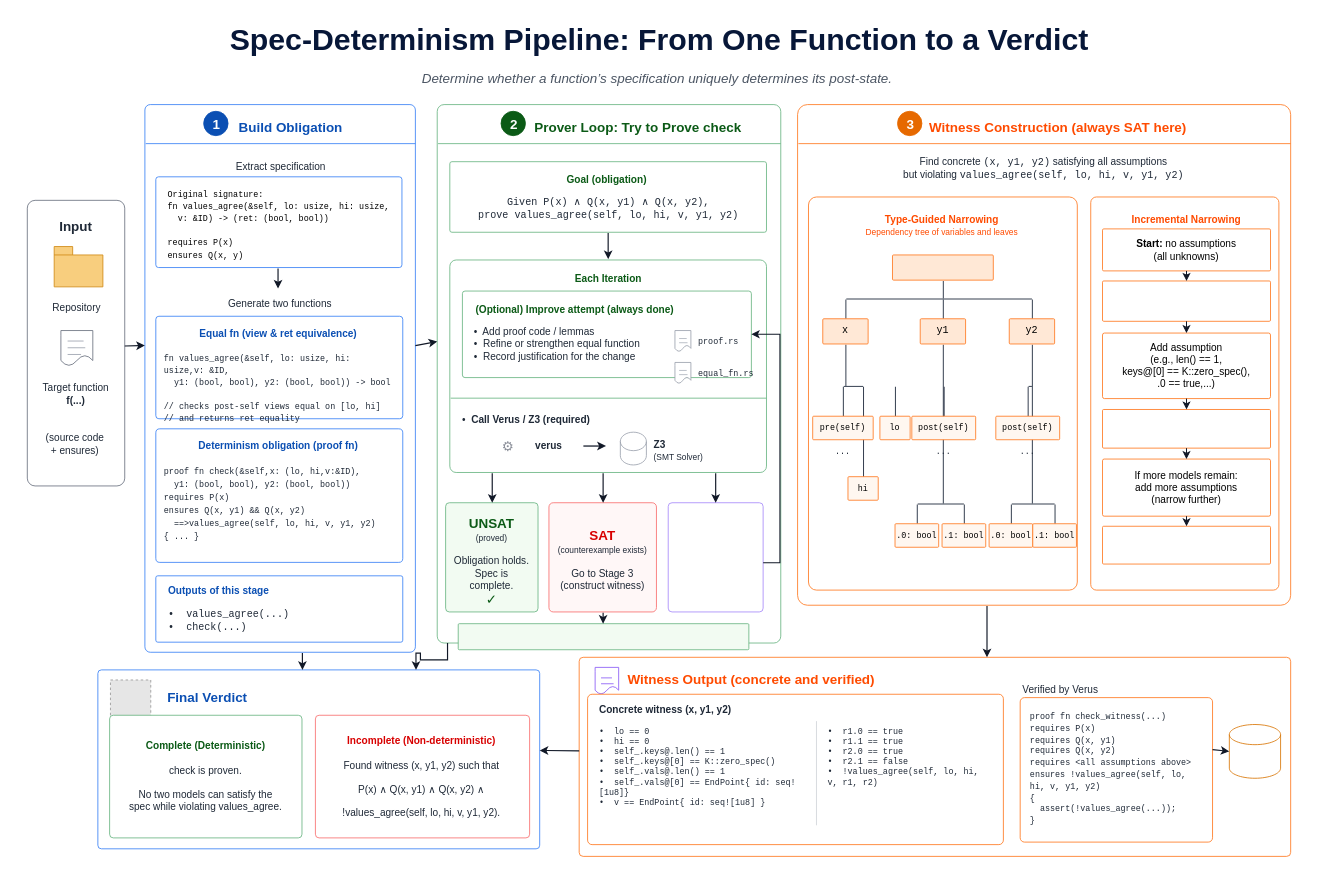
Some shapes in this 1319 by 889 pixel diagram are drawn without their labels. Grey dashed boxes stand in for pictures. The centre of each missing label's shape, as x and y in pixels:
"(x, y1, y2)" goes at (x=942, y=267).
"If still SAT and unequal: we have a concrete witness" goes at (x=1186, y=544).
"Iterate until: UNSAT (complete) or SAT (counterexample)" goes at (x=603, y=636).
"Query Verus / Z3 under all current assumptions" goes at (x=1186, y=428).
"Select next leaf by type & structure" goes at (x=1186, y=300).
"UNKNOWN (inconclusive) Refine and try again in next iteration" goes at (x=715, y=557).
"Verus / Z3 (SMT)" goes at (x=1254, y=751).
